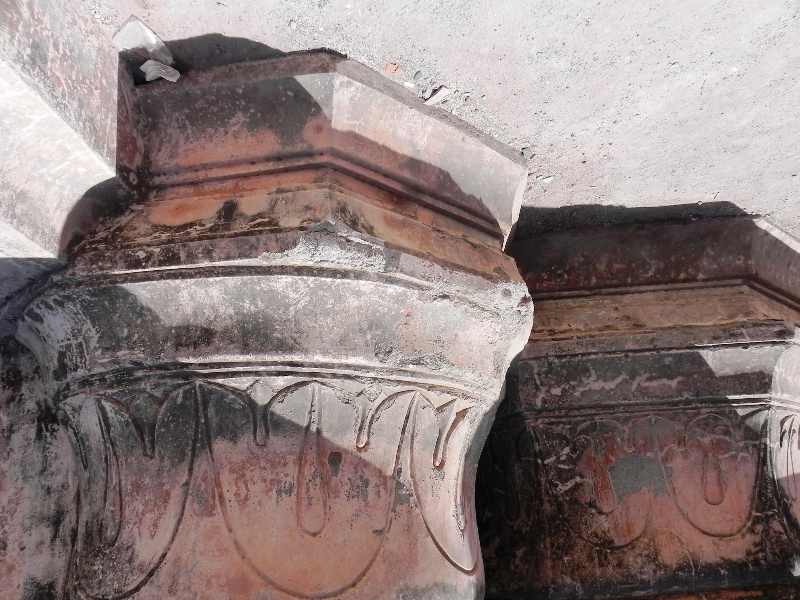Spalling: (261, 215, 425, 281)
